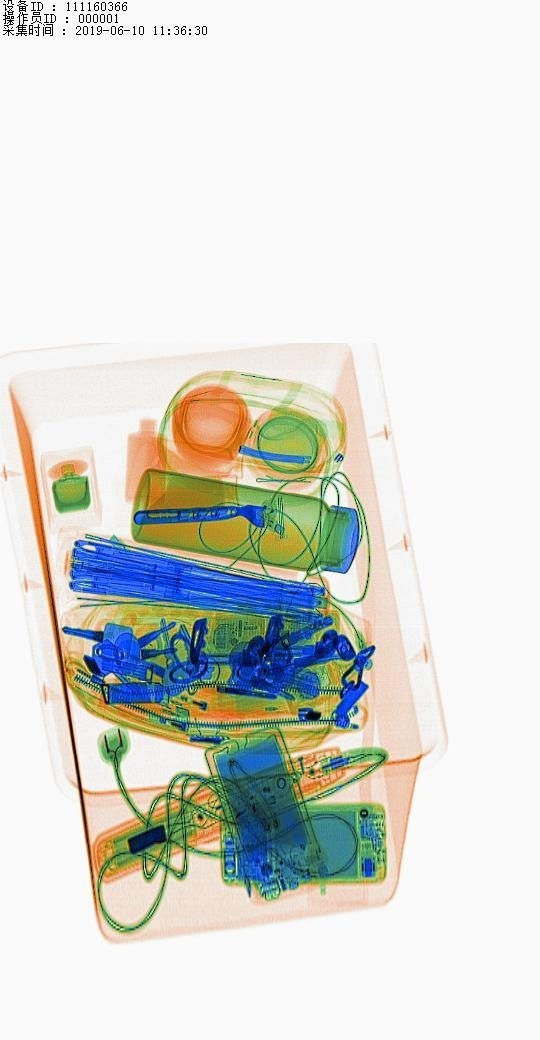NonmetallicFire: (92, 675, 239, 732)
